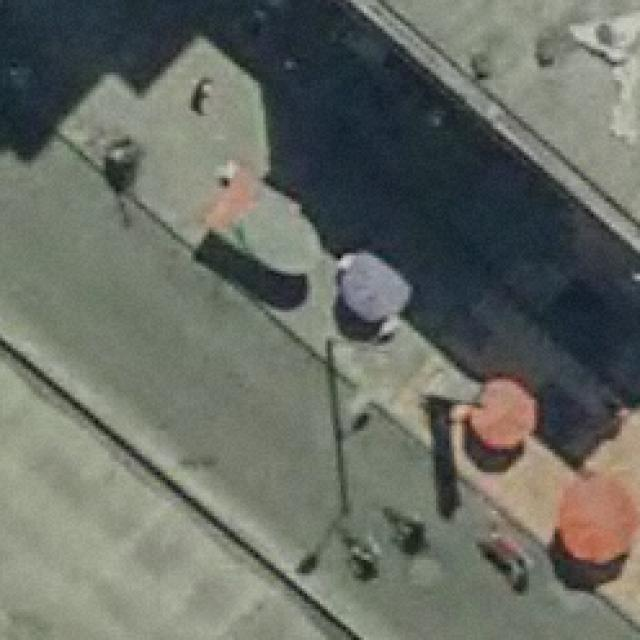vendedor_ambulante: (552, 471, 639, 566), (334, 247, 416, 328), (463, 370, 541, 452)
